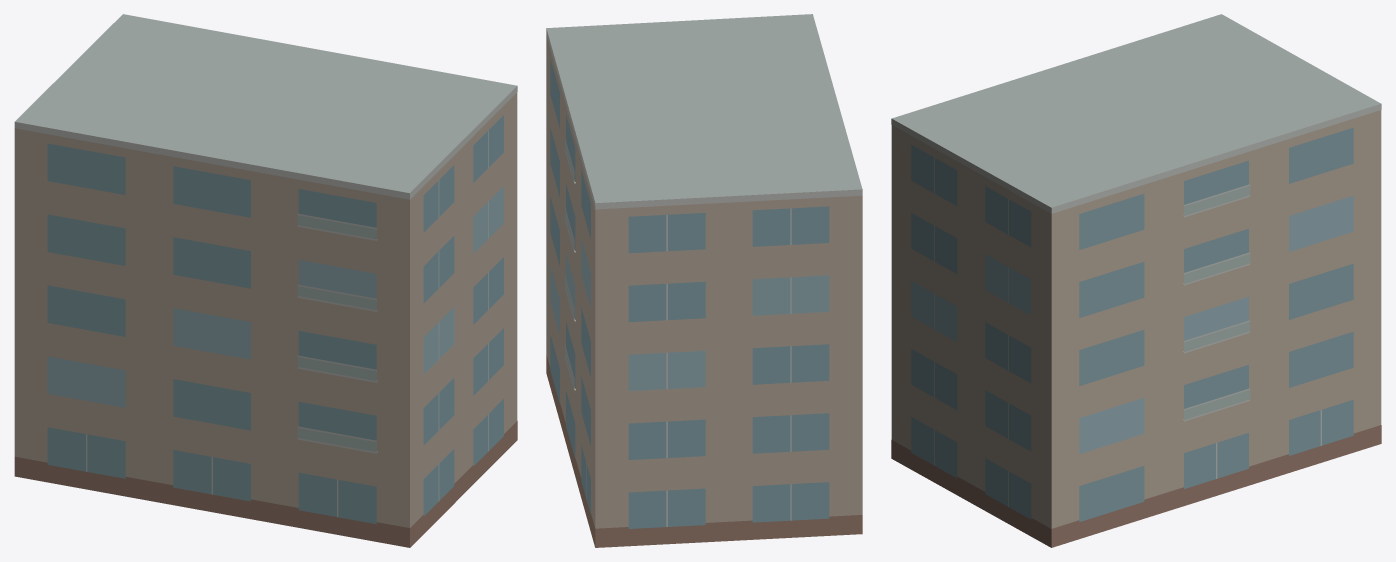
File: survey-upis-32581768.glb
The picture shows the model from 3 angles, left to right: view 1: azimuth 30°, elevation 25°; view 2: azimuth 150°, elevation 25°; view 3: azimuth 270°, elevation 25°; orthographic projection. The views are drawn at different scales.
Parts seen in each view (by area): view 1: survey-upis-32581768.tmp; view 2: survey-upis-32581768.tmp; view 3: survey-upis-32581768.tmp.
Part boxes in pixels (bbox=[...]): survey-upis-32581768.tmp: bbox=[14, 14, 517, 547]; survey-upis-32581768.tmp: bbox=[546, 14, 862, 547]; survey-upis-32581768.tmp: bbox=[891, 14, 1381, 547].
Size of the model in its own units: 16.38 by 13.4 by 17.5.
